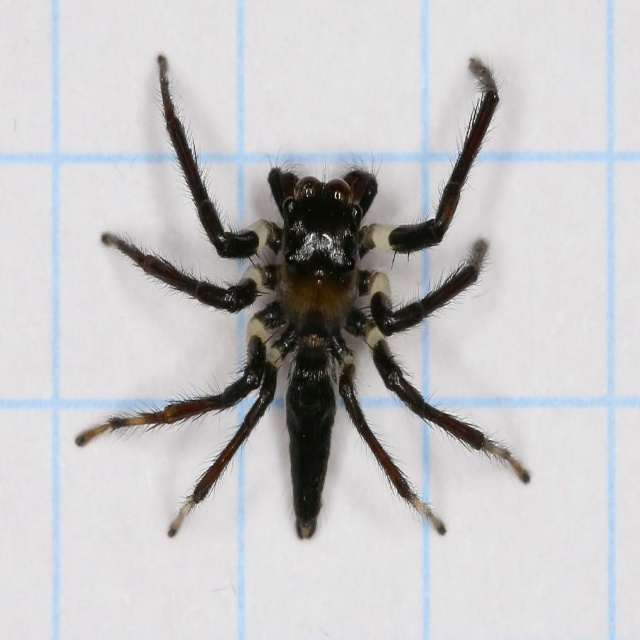Spider: (73, 53, 534, 542)
